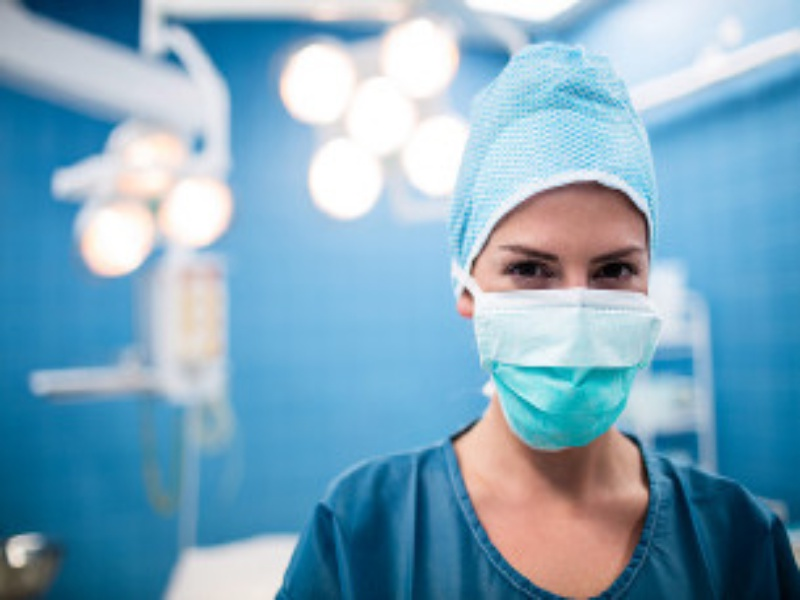mask: (451, 192, 675, 450)
